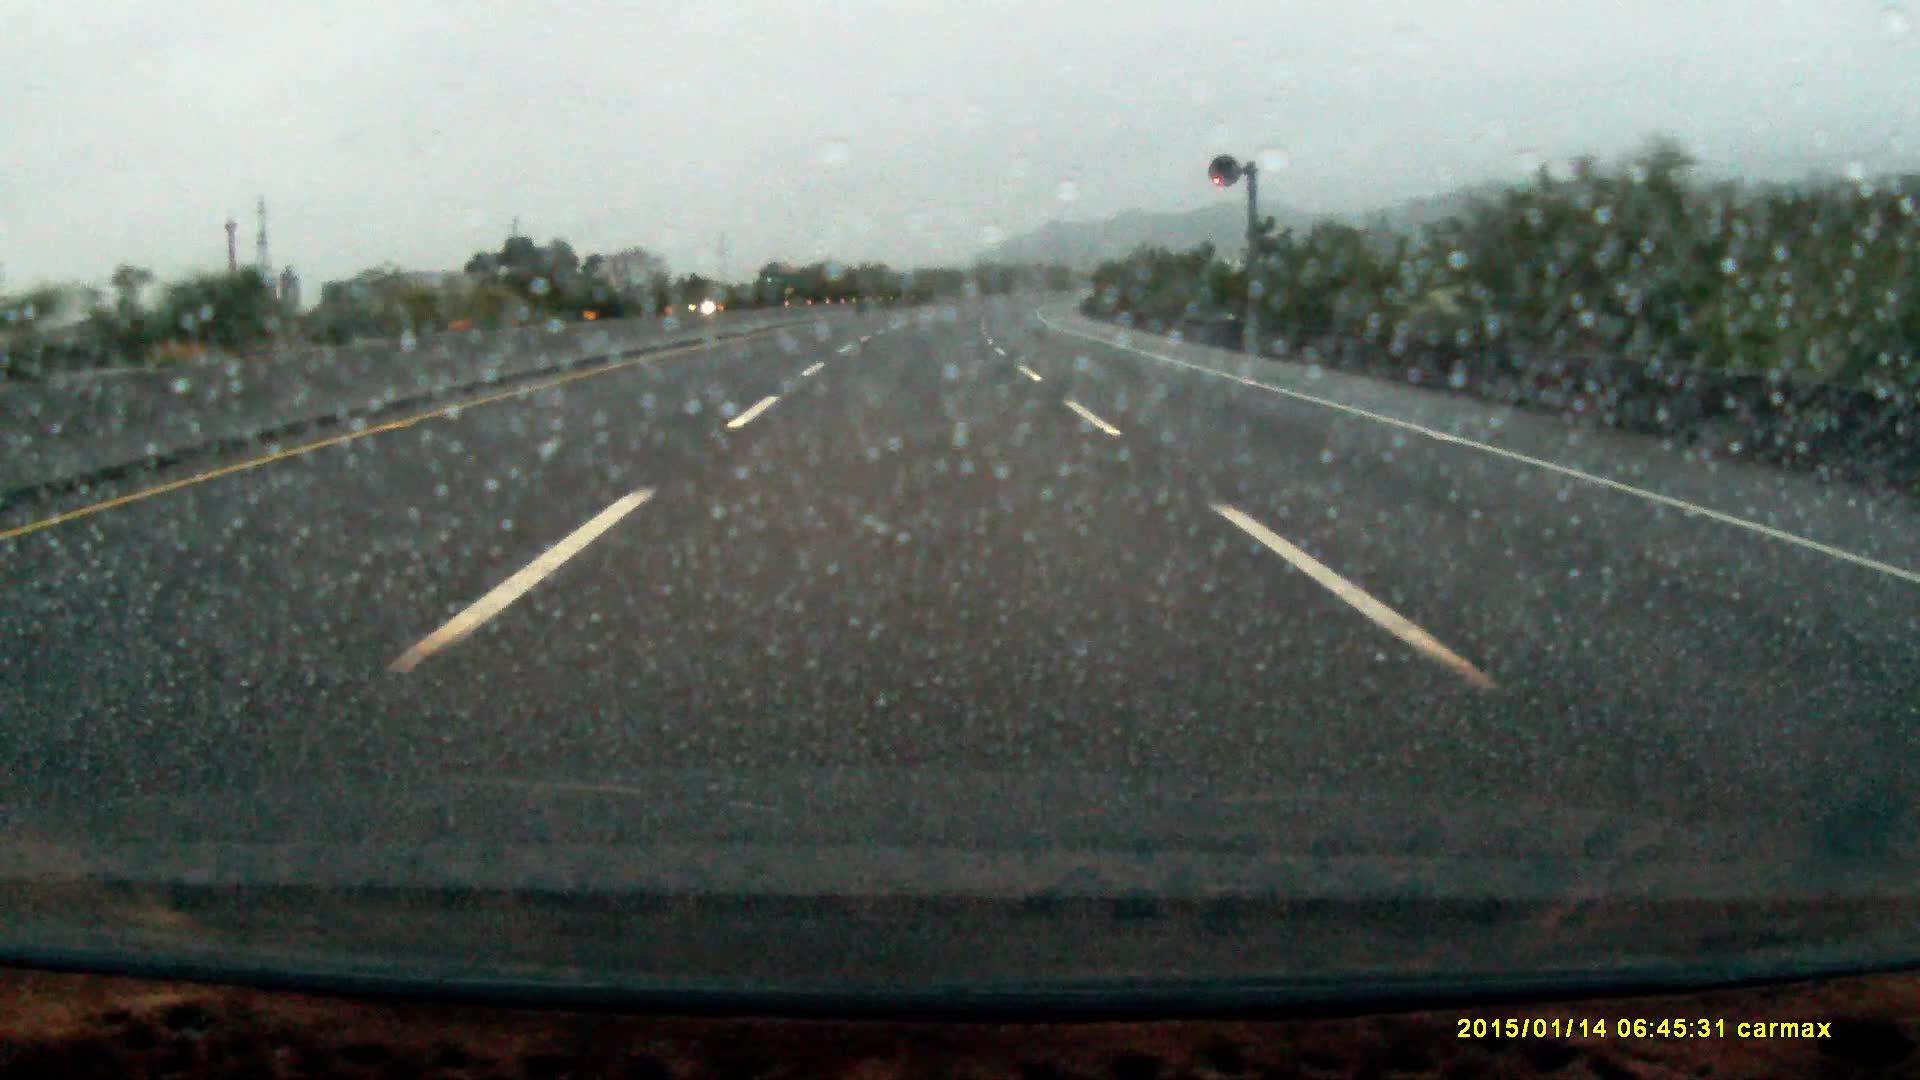vehicle: (757, 262, 800, 305)
